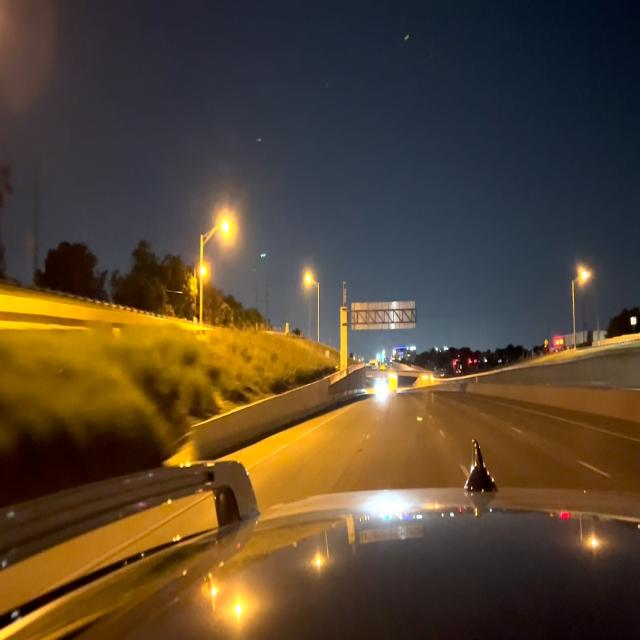back-of-sign: (351, 302, 415, 327)
